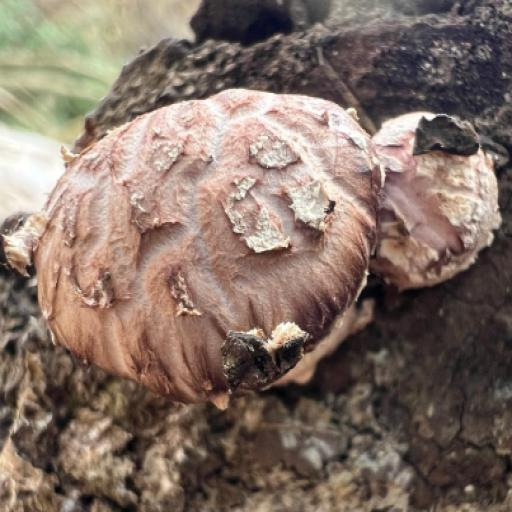Shiitake Mushroom: (34, 87, 488, 406)
